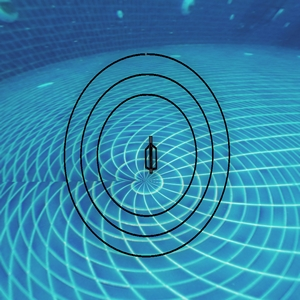circle: (57, 44, 232, 262)
submarine: (141, 139, 158, 171)
